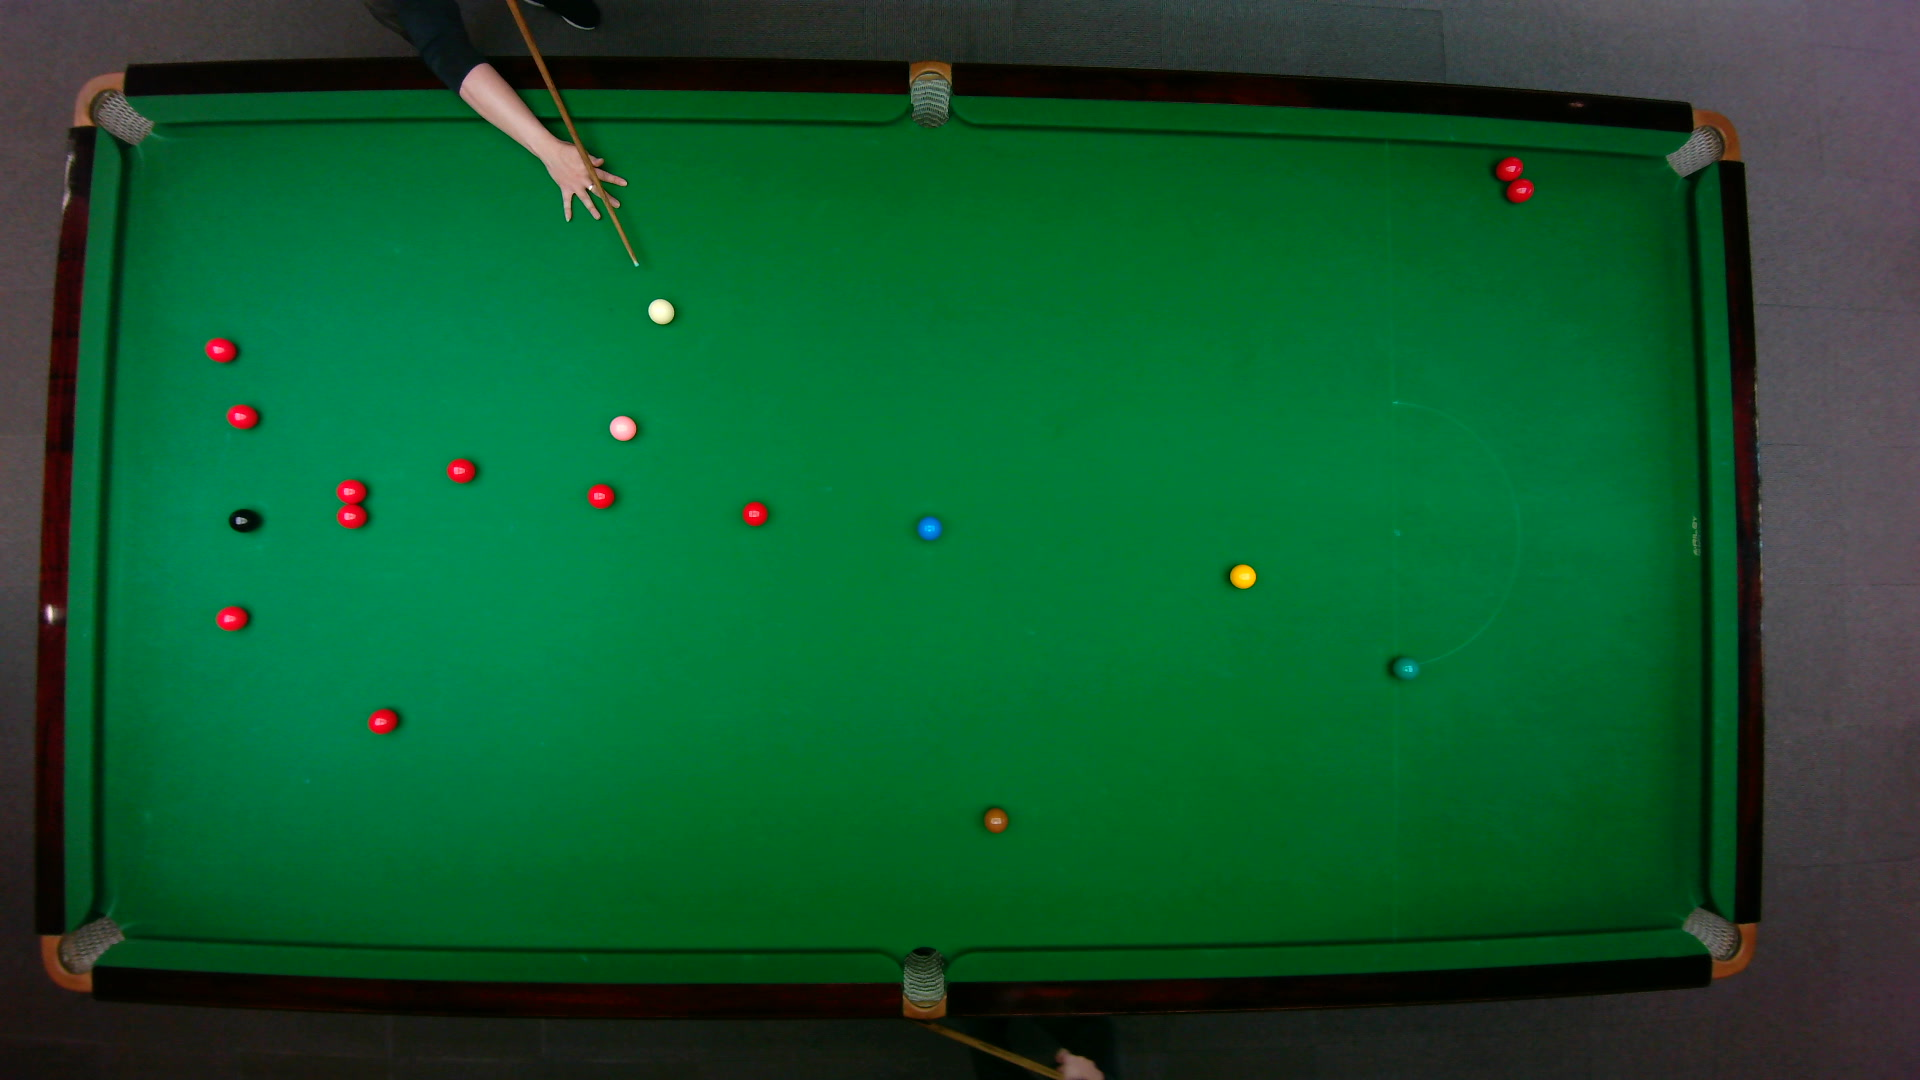bag: (40, 914, 127, 992), (70, 71, 156, 146), (1679, 905, 1756, 980), (1663, 108, 1742, 179), (902, 945, 945, 1021), (909, 59, 951, 129)
black: (225, 506, 261, 535)
blue: (915, 514, 944, 543)
brown: (981, 804, 1011, 835)
cue: (504, 0, 641, 268)
green: (1390, 655, 1422, 680)
pink: (607, 414, 640, 443)
red: (202, 335, 239, 365), (367, 705, 401, 737), (444, 456, 479, 487), (214, 605, 251, 633), (334, 504, 369, 531), (224, 401, 258, 429), (334, 477, 369, 504), (585, 483, 617, 512), (740, 498, 770, 527), (1493, 156, 1524, 183), (1505, 177, 1536, 204)
white: (646, 295, 676, 327)
yellow: (1228, 562, 1258, 589)
zone: (1390, 400, 1520, 669)
